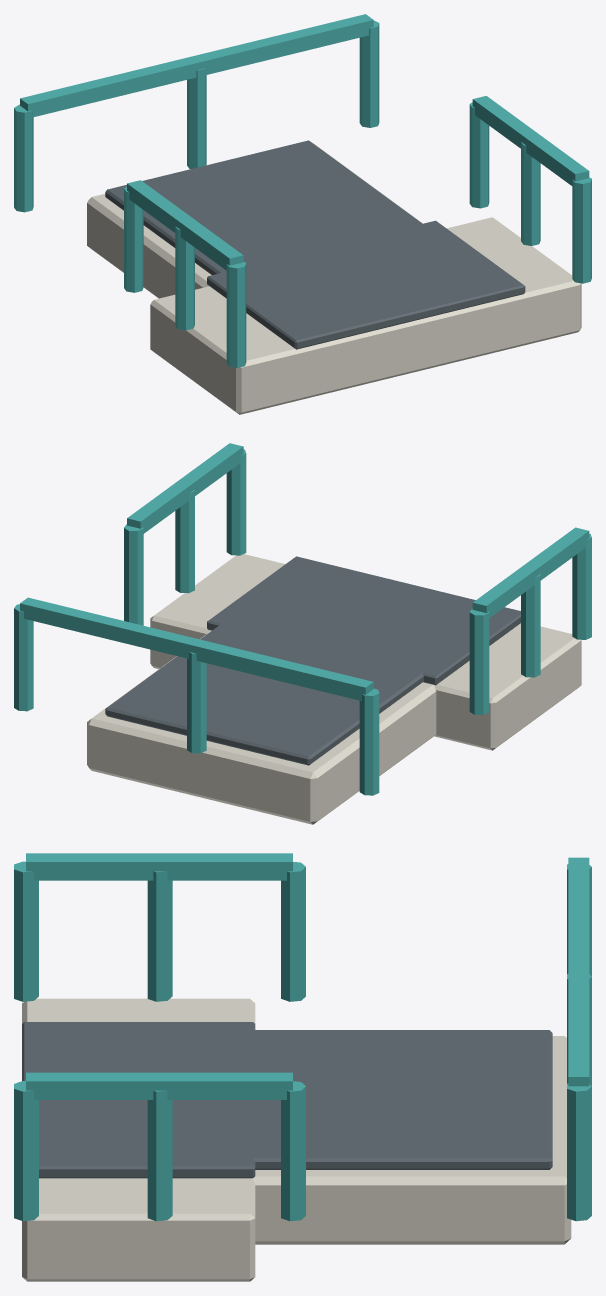
The model's file is BRG_LOCAL_DECK_1x1_END.glb.
3 views of the same model, one above another, from view 1: azimuth 30°, elevation 25°; view 2: azimuth 150°, elevation 25°; view 3: azimuth 270°, elevation 25° (orthographic). The views are drawn at different scales.
Parts seen in each view (by area): view 1: BRG_LOCAL_DECK_1x1_END_Visual; view 2: BRG_LOCAL_DECK_1x1_END_Visual; view 3: BRG_LOCAL_DECK_1x1_END_Visual.
Part boxes in pixels (x1=…): BRG_LOCAL_DECK_1x1_END_Visual: x1=14, y1=14, x2=591, y2=414; BRG_LOCAL_DECK_1x1_END_Visual: x1=14, y1=443, x2=591, y2=824; BRG_LOCAL_DECK_1x1_END_Visual: x1=14, y1=853, x2=591, y2=1281.
Size of what is drawn, in the model's own units: 1.45 by 0.6075 by 1.54.
